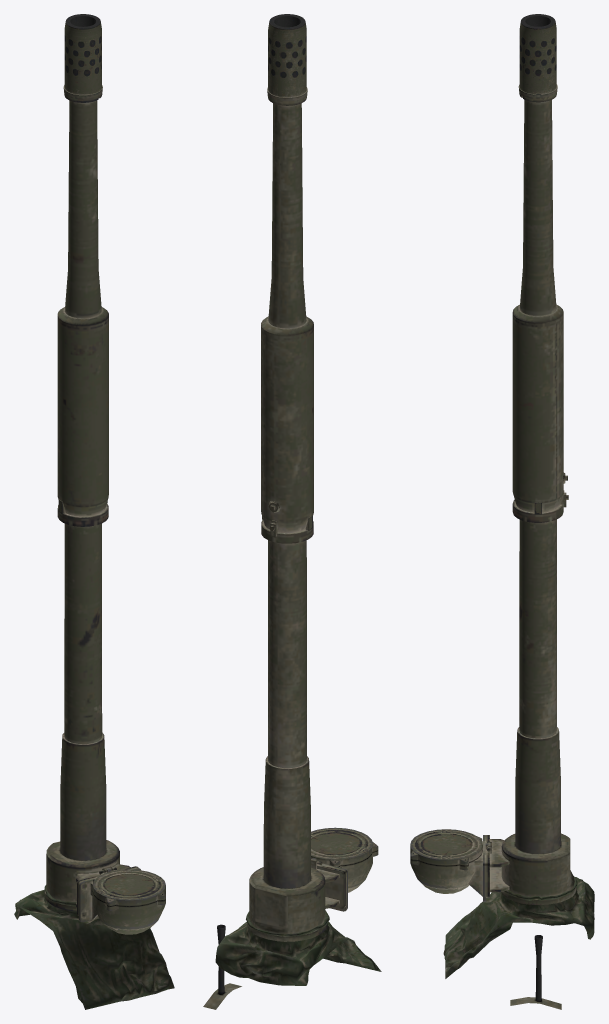
File: Gun_02.glb
3 renders of one model, left to right at view 1: azimuth 30°, elevation 25°; view 2: azimuth 150°, elevation 25°; view 3: azimuth 270°, elevation 25°, orthographic. The views are drawn at different scales.
Parts seen in each view (by area): view 1: set_0_group_0; view 2: set_0_group_0; view 3: set_0_group_0.
Boxes of the visible parts, x1,y1,x2,y2 form: set_0_group_0: [14, 14, 174, 1009]; set_0_group_0: [203, 14, 381, 1009]; set_0_group_0: [410, 14, 594, 1009].
Size of the model in its own units: 0.6319 by 5.05 by 0.8858.
1 material, 1 textured.
